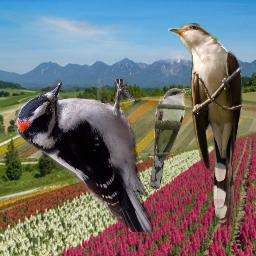Cuckoo: (168, 23, 243, 225), (150, 88, 191, 190)
Woodpecker: (14, 79, 154, 232)
